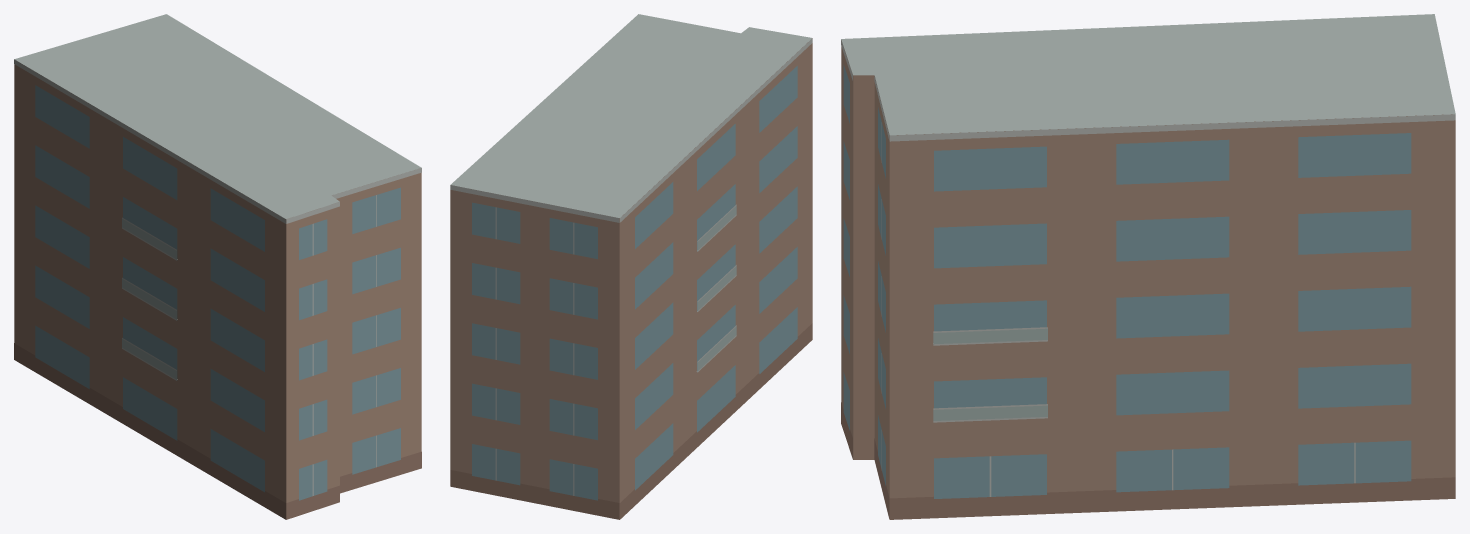
The model's file is survey-upis-33013477.glb.
3 renders of one model, left to right at view 1: azimuth 30°, elevation 25°; view 2: azimuth 150°, elevation 25°; view 3: azimuth 270°, elevation 25°, orthographic. The views are drawn at different scales.
Parts seen in each view (by area): view 1: survey-upis-33013477.tmp; view 2: survey-upis-33013477.tmp; view 3: survey-upis-33013477.tmp.
Part boxes in pixels (bbox=[...]): survey-upis-33013477.tmp: bbox=[14, 14, 421, 519]; survey-upis-33013477.tmp: bbox=[450, 14, 812, 519]; survey-upis-33013477.tmp: bbox=[841, 14, 1455, 519].
Size of the model in its own units: 10.33 by 15.25 by 22.1.
